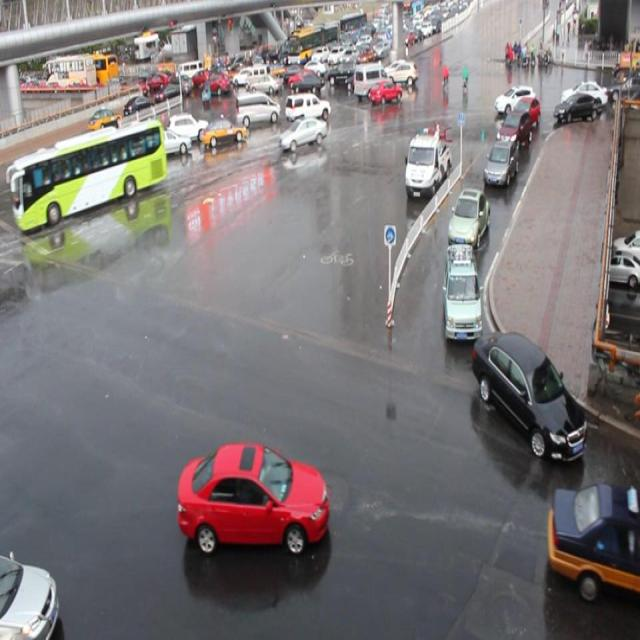bus: (403, 129, 450, 202)
car: (178, 441, 330, 552), (472, 329, 586, 460), (546, 480, 640, 601), (0, 548, 59, 640), (443, 242, 481, 339), (446, 188, 490, 248), (45, 148, 97, 183), (482, 139, 517, 187), (144, 126, 192, 160), (280, 117, 326, 151), (166, 108, 209, 144), (200, 117, 247, 147), (286, 91, 330, 122), (495, 110, 530, 148), (113, 129, 153, 158), (517, 94, 543, 132), (369, 80, 402, 103)
truck: (236, 92, 278, 128), (352, 62, 390, 96)
van: (12, 120, 164, 231)
